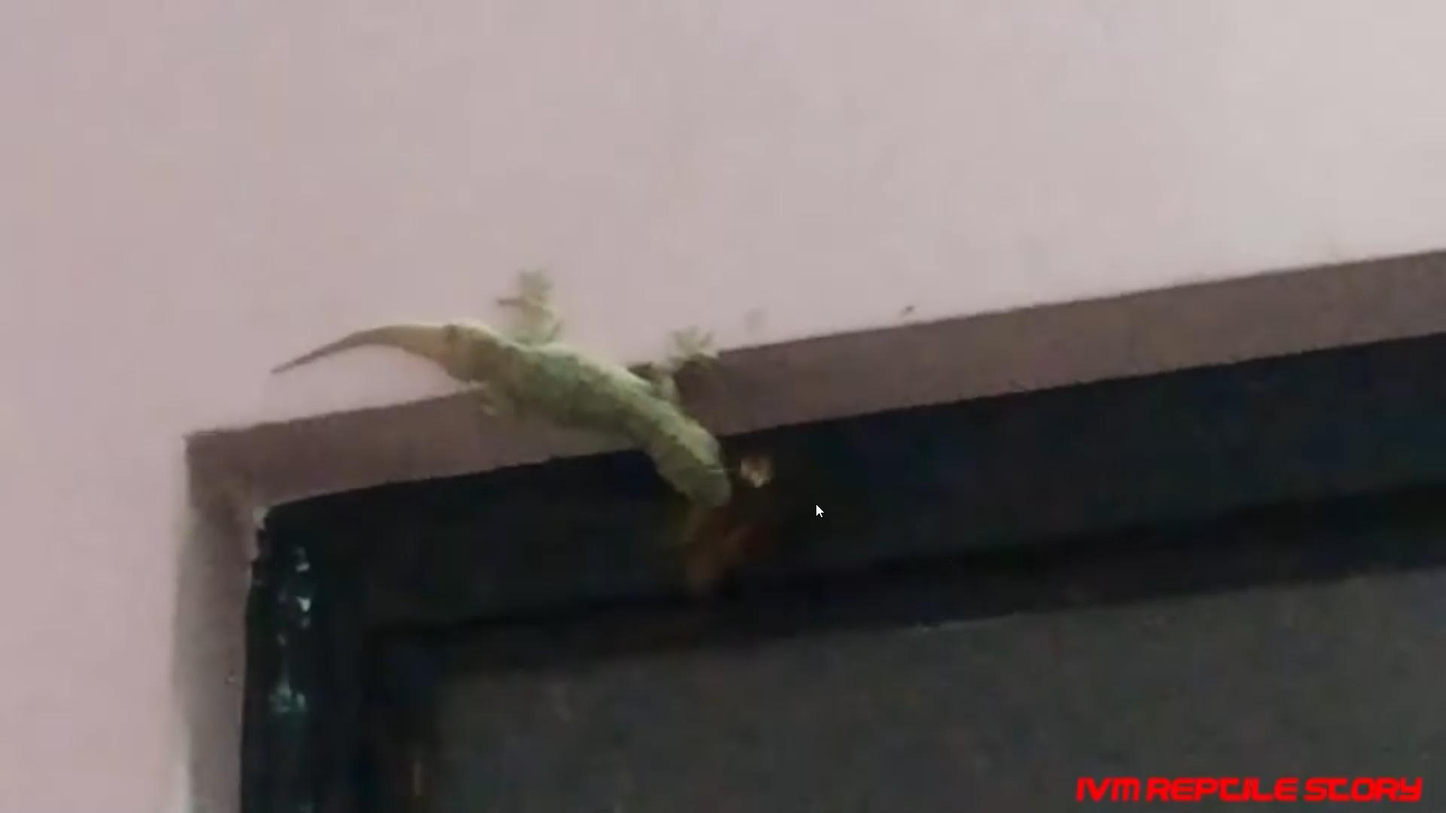cockroach: (701, 480, 779, 598)
lizard: (268, 249, 743, 507)
